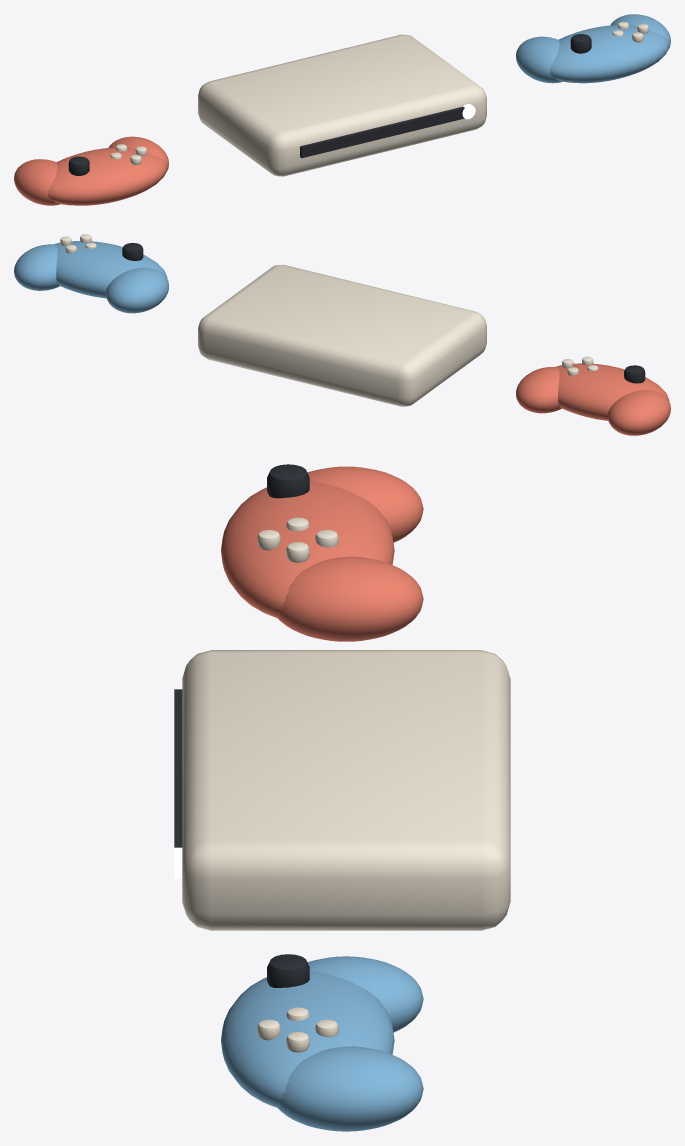
File: console.glb
The picture shows the model from 3 angles, top to bottom: view 1: azimuth 30°, elevation 25°; view 2: azimuth 150°, elevation 25°; view 3: azimuth 270°, elevation 25°; orthographic projection. The views are drawn at different scales.
Visible parts, largest first — view 1: console; view 2: console; view 3: console.
Part boxes in pixels (x1=…): console: x1=14, y1=14, x2=670, y2=205; console: x1=14, y1=234, x2=670, y2=435; console: x1=174, y1=464, x2=510, y2=1131.
Bounding box in the file's own units: 0.77 × 0.053 × 0.174.
